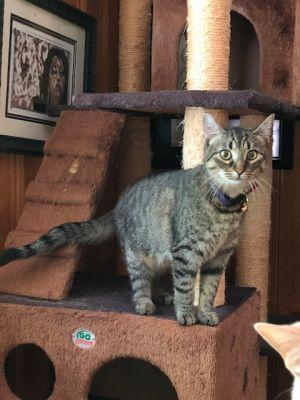bengal: (192, 105, 287, 203)
